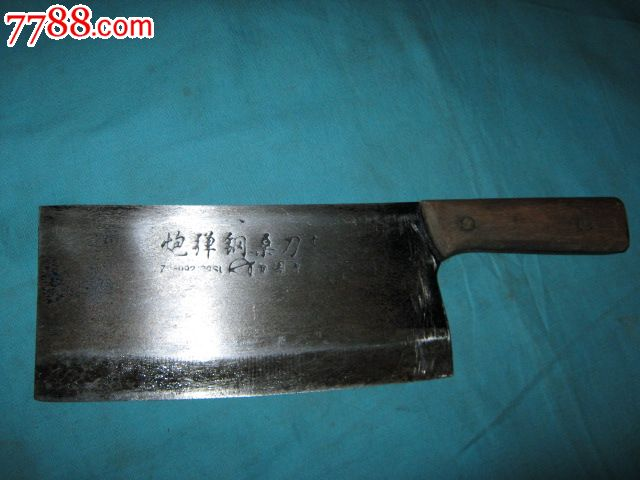knief: (21, 190, 630, 403)
